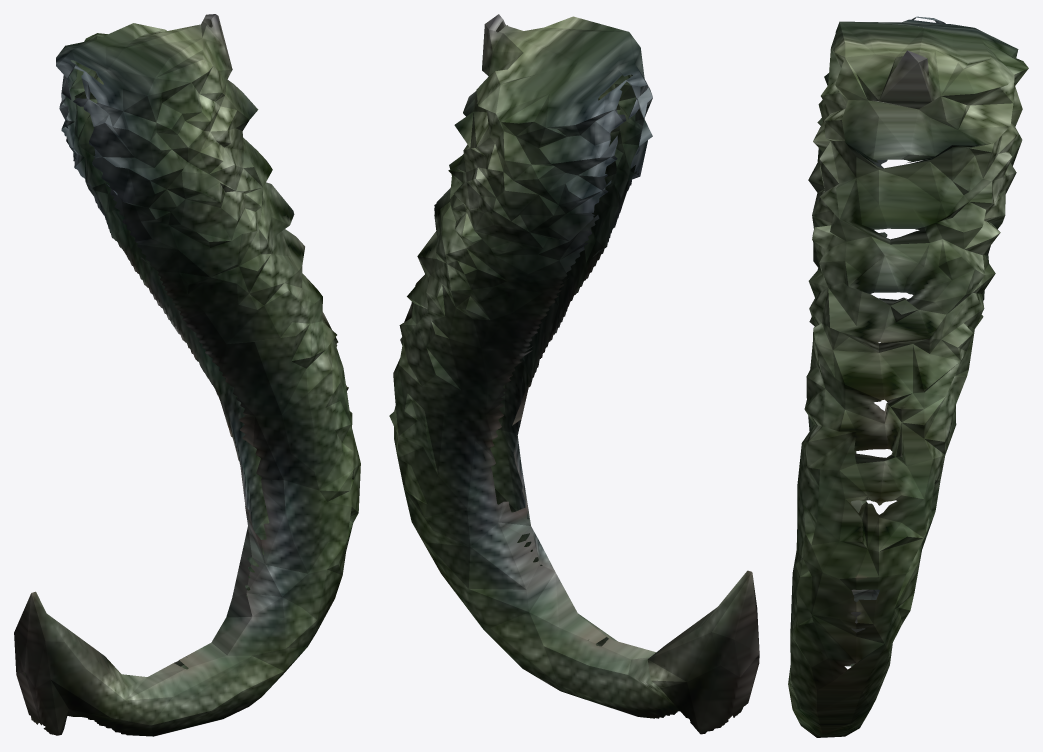
The model's file is dragontail-lite.glb.
The picture shows the model from 3 angles, left to right: view 1: azimuth 30°, elevation 25°; view 2: azimuth 150°, elevation 25°; view 3: azimuth 270°, elevation 25°; orthographic projection. The views are drawn at different scales.
Visible parts, largest first — view 1: geometry_0; view 2: geometry_0; view 3: geometry_0.
Part boxes in pixels (box(x1,y1,x2,y2)): geometry_0: box(14, 14, 360, 736); geometry_0: box(389, 14, 759, 734); geometry_0: box(788, 16, 1028, 737).
Bounding box in the file's own units: 0.4937 × 0.9377 × 0.2914.
1 material, 1 textured.
